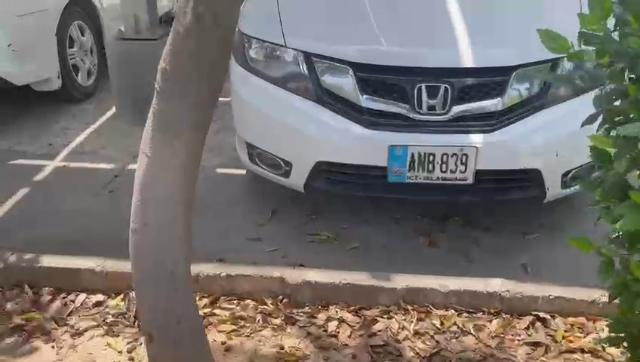plate: (387, 145, 477, 184)
